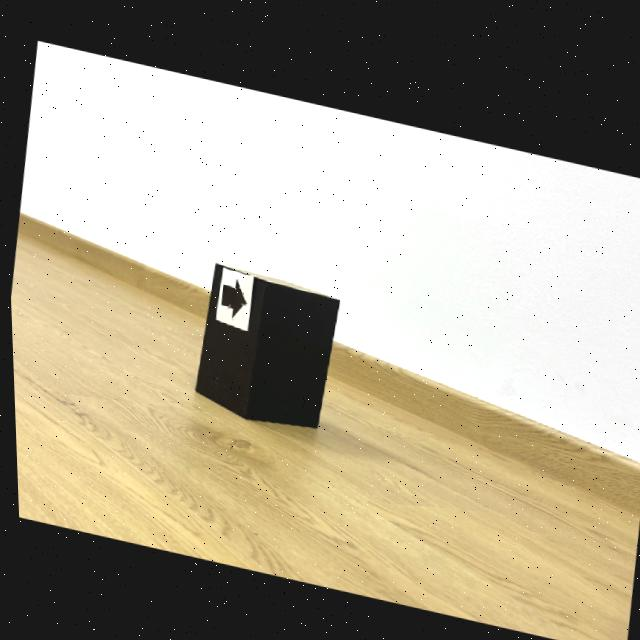RIGHT: (219, 276, 243, 315)
